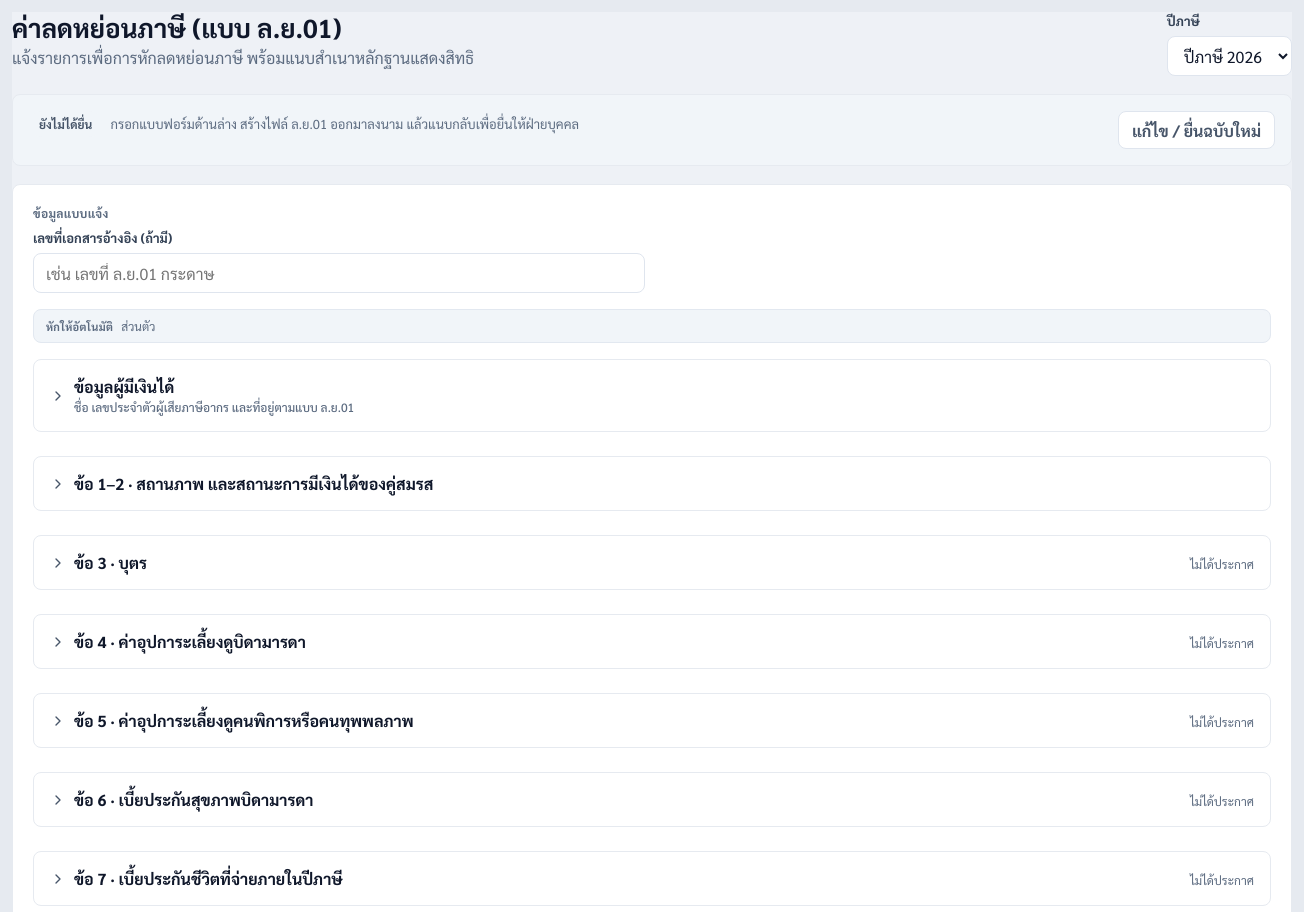
Scenario: TaxAllowancePage › tax-year history › is read-only for a past year even when nothing was ever filed
This screenshot has width=1304, height=912.
Select "ปีภาษี 2025" in the dropdown labelled "ปีภาษี" at {"x": 1230, "y": 56}, box [1167,36,1292,76]
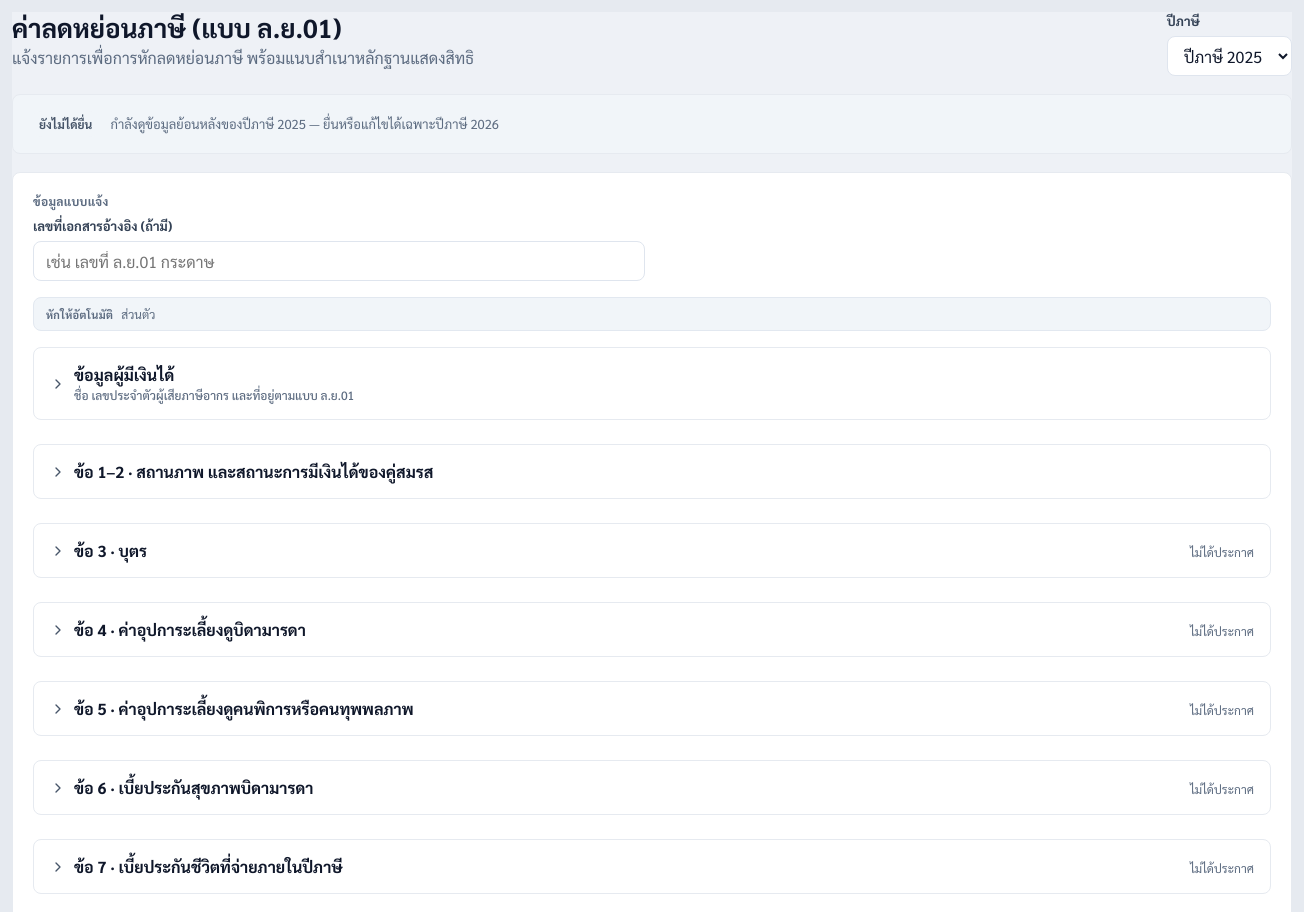
Check: the button "แก้ไข / ยื่นฉบับใหม่" is gone
